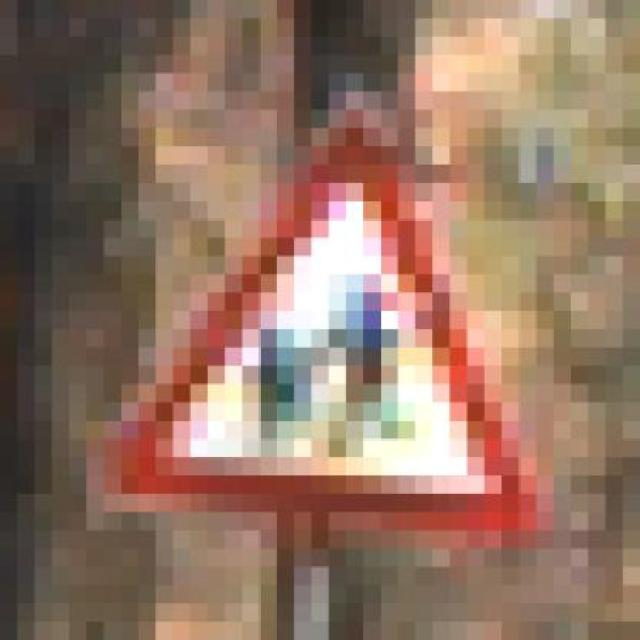Beware of children: (69, 110, 554, 548)
